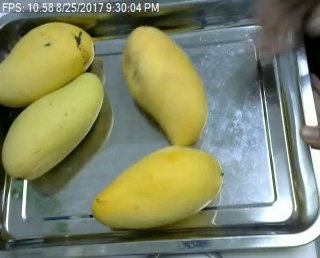Mango: (89, 144, 223, 232), (0, 72, 104, 182), (121, 26, 207, 145), (0, 21, 94, 107)
